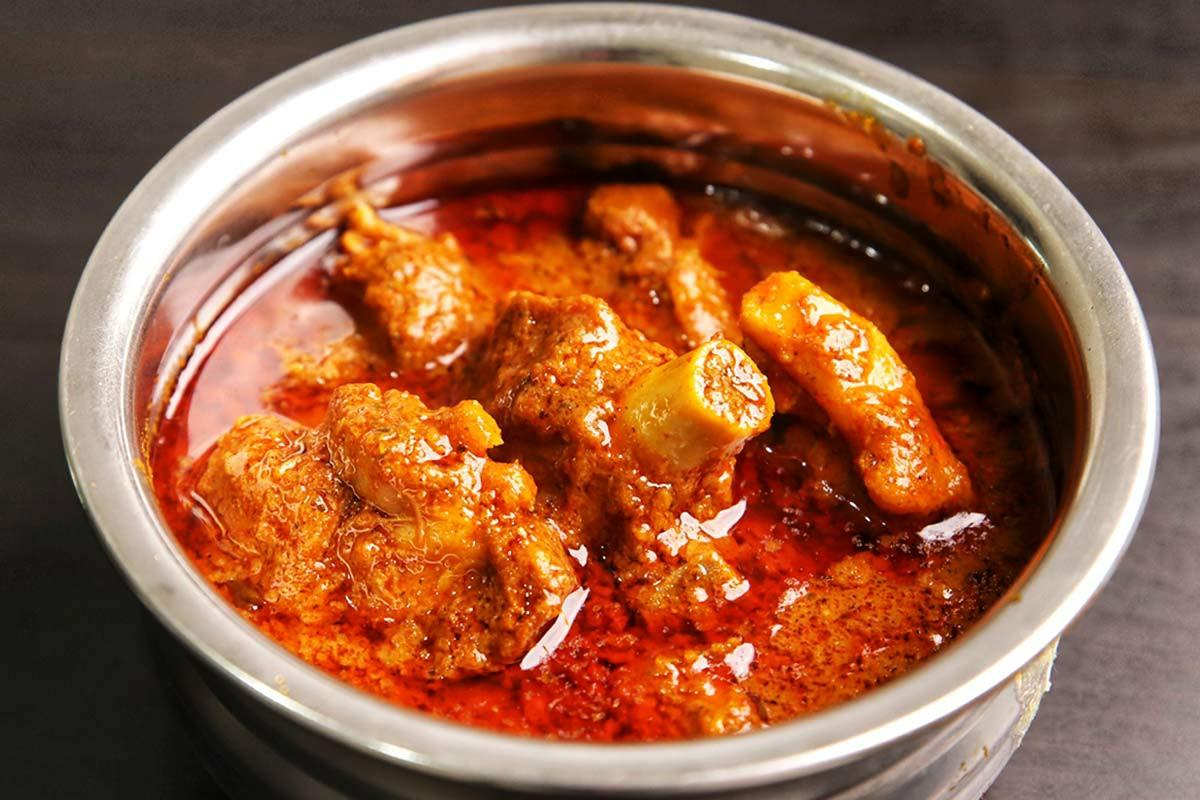MuttonCurry: (152, 181, 1061, 751)
